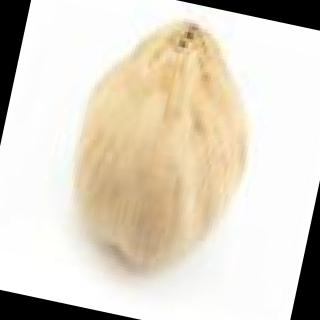Bawang Putih: (45, 10, 280, 284)
